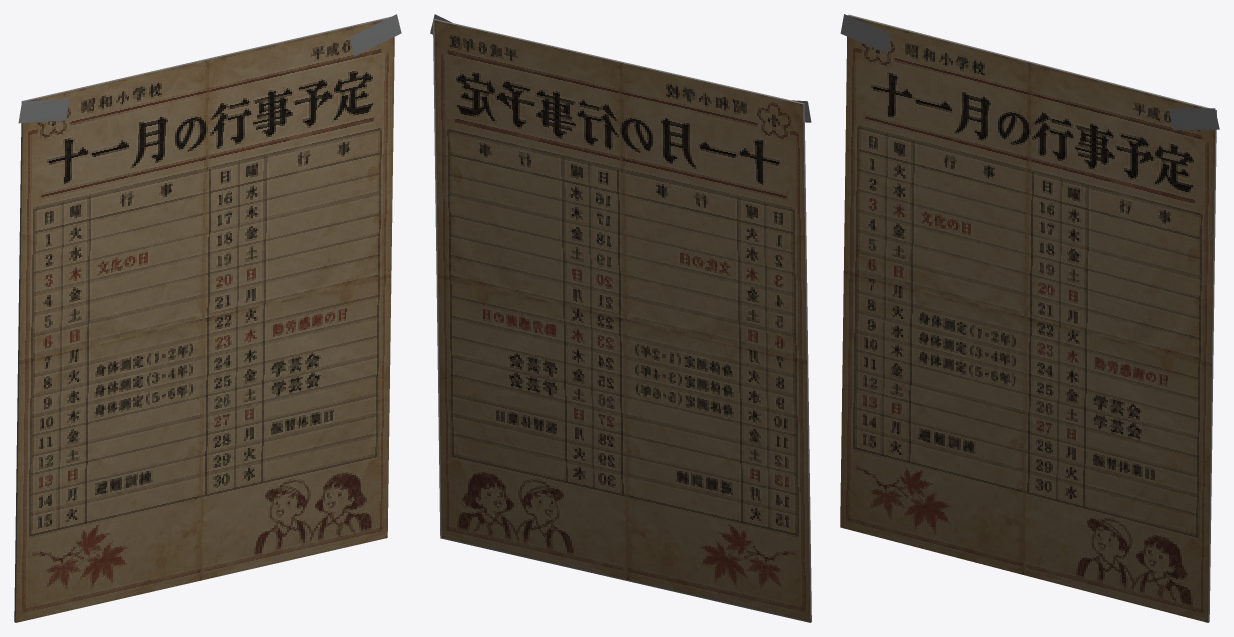
File: prop_poster-gyoji-5.glb
3 renders of one model, left to right at view 1: azimuth 30°, elevation 25°; view 2: azimuth 150°, elevation 25°; view 3: azimuth 330°, elevation 25°, orthographic.
Parts seen in each view (by area): view 1: prop_poster-gyoji-5; view 2: prop_poster-gyoji-5; view 3: prop_poster-gyoji-5.
Part boxes in pixels (x1,y1,x2,y2): prop_poster-gyoji-5: (14, 14, 401, 622); prop_poster-gyoji-5: (430, 14, 811, 622); prop_poster-gyoji-5: (840, 14, 1219, 622).
Size of the model in its own units: 0.4765 by 0.6234 by 0.0055.
2 materials, 2 textured.
